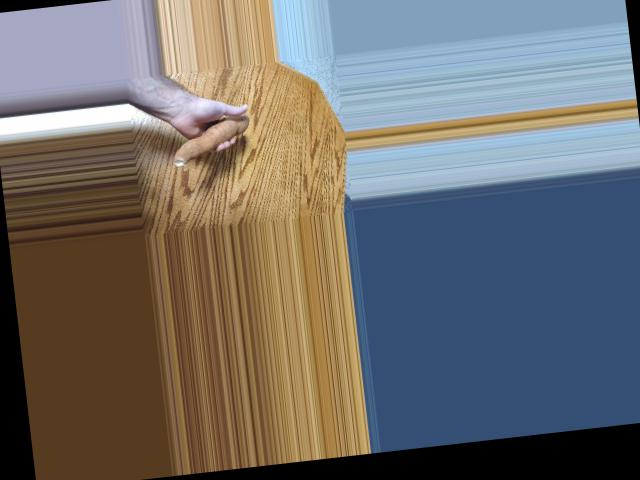sweet_potato: (168, 116, 257, 166)
